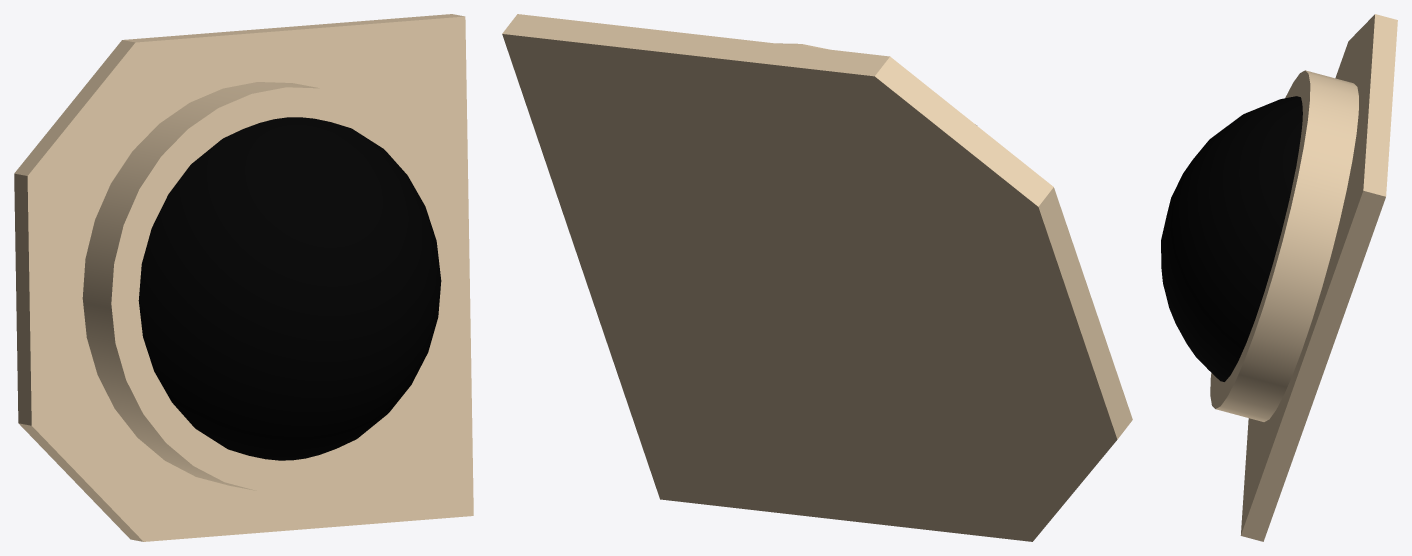
The model's file is toy_monster_flag.fbx.
The picture shows the model from 3 angles, left to right: view 1: azimuth 30°, elevation 25°; view 2: azimuth 150°, elevation 25°; view 3: azimuth 270°, elevation 25°; orthographic projection. The views are drawn at different scales.
Parts seen in each view (by area): view 1: flag, flag sphere, flag border; view 2: flag; view 3: flag sphere, flag border, flag.
Part boxes in pixels (x1,y1,x2,y2): flag: [14, 14, 473, 541]; flag sphere: [138, 117, 441, 460]; flag border: [82, 82, 467, 492]; flag: [502, 14, 1132, 541]; flag sphere: [1161, 96, 1302, 381]; flag border: [1210, 70, 1358, 421]; flag: [1240, 14, 1397, 541].
Bounding box in the file's own units: 72.2 × 70.26 × 36.02.
